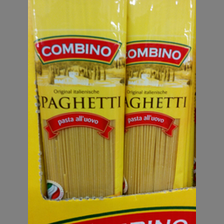pasta: (30, 1, 129, 199), (126, 2, 195, 194)
